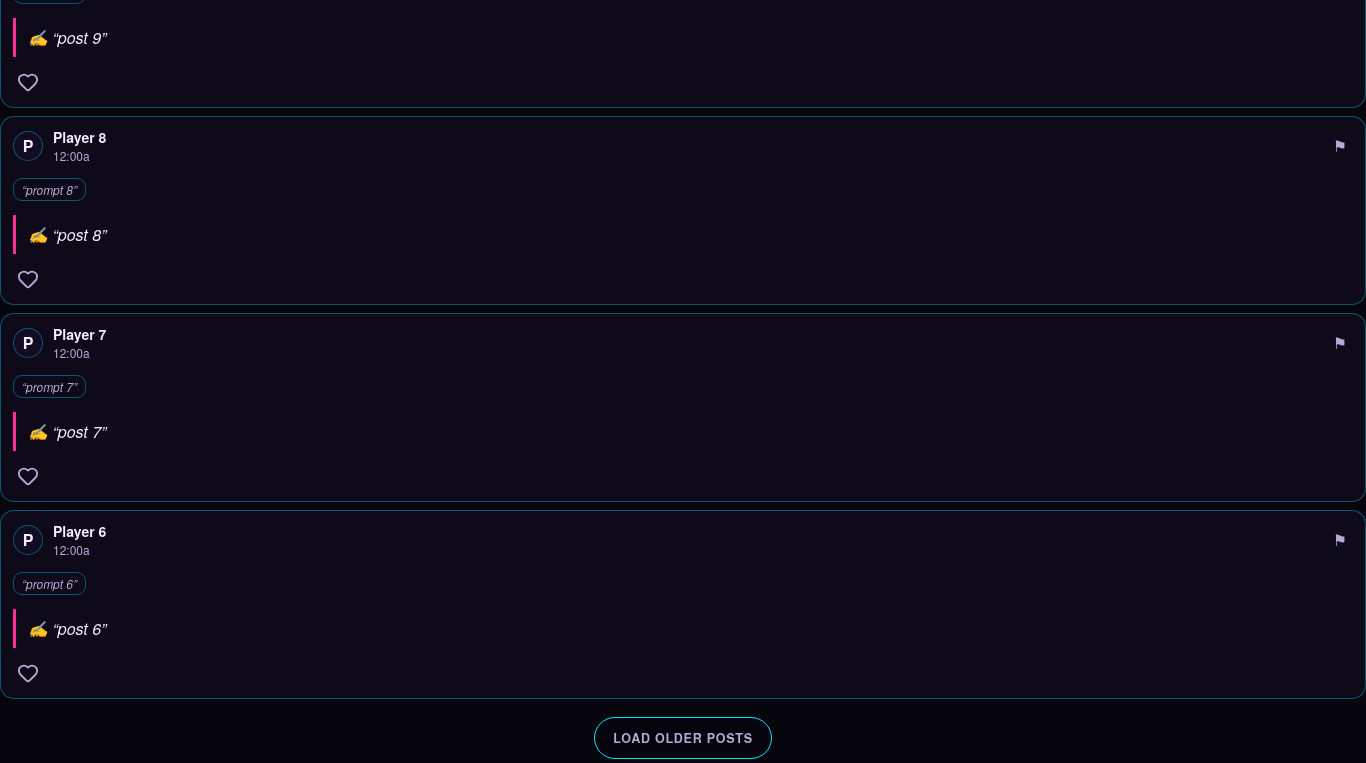
it: ProofFeed paging — the Feed no longer just ends (#441) › drops the control once the stream is exhausted
The width and height of the screenshot is (1366, 763).
(page scrolled)
Click the button "Load older posts" at [683, 738], box [594, 717, 772, 759]
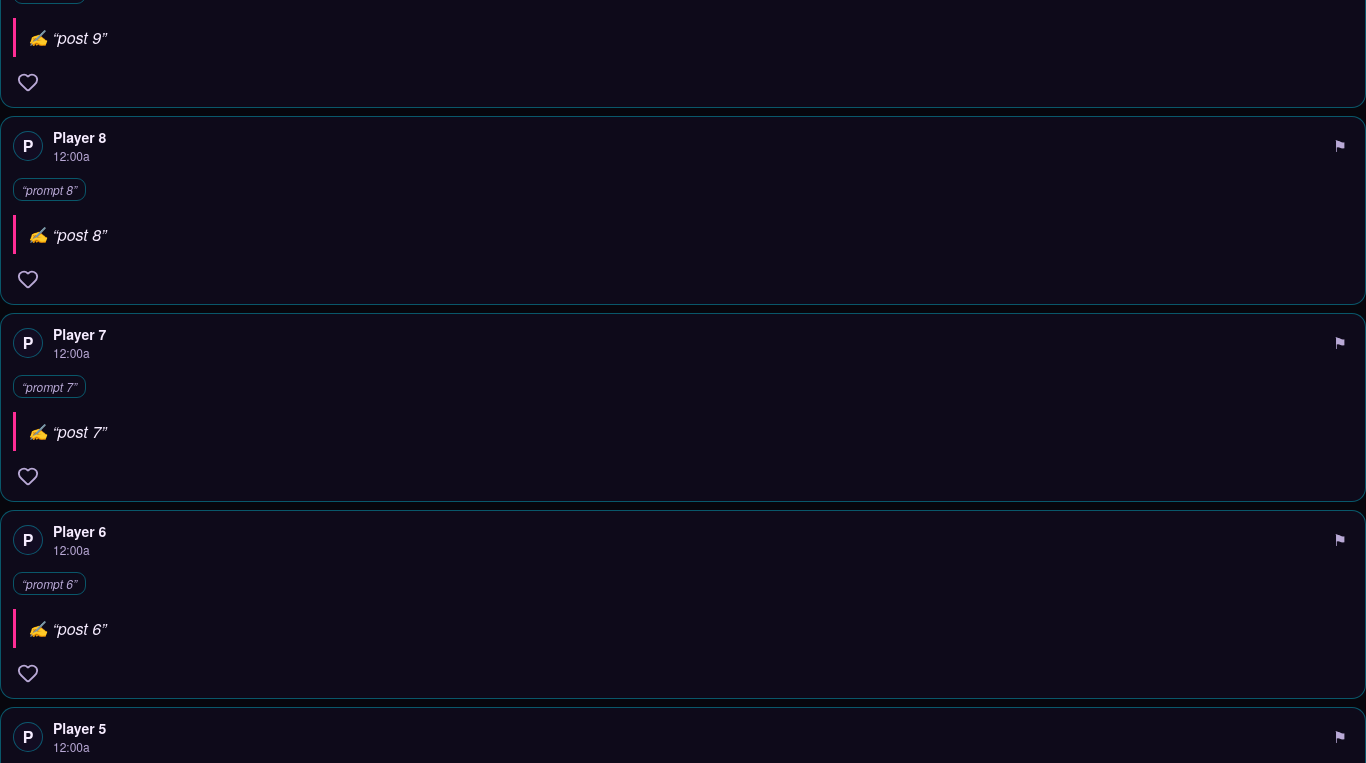
Result: the button "Load older posts" is gone
